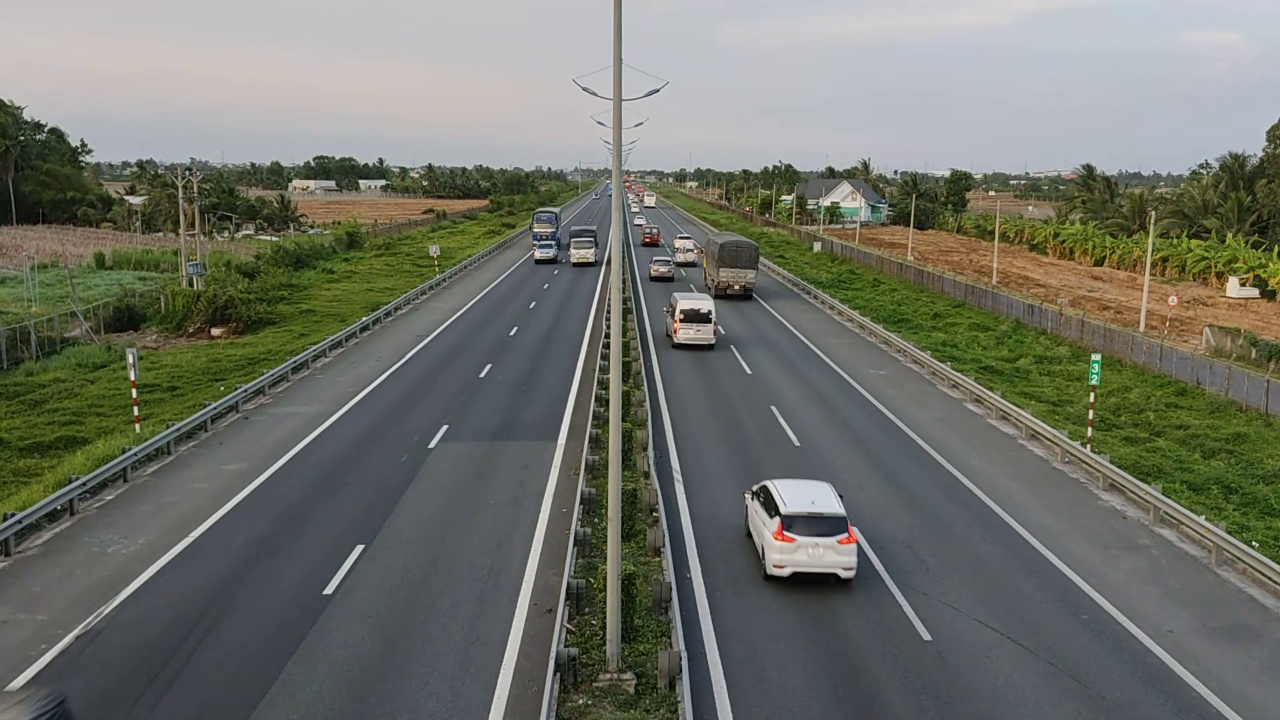car: (743, 477, 859, 580), (663, 292, 718, 349), (648, 255, 676, 281), (641, 225, 663, 246)
truck: (702, 231, 759, 297)
